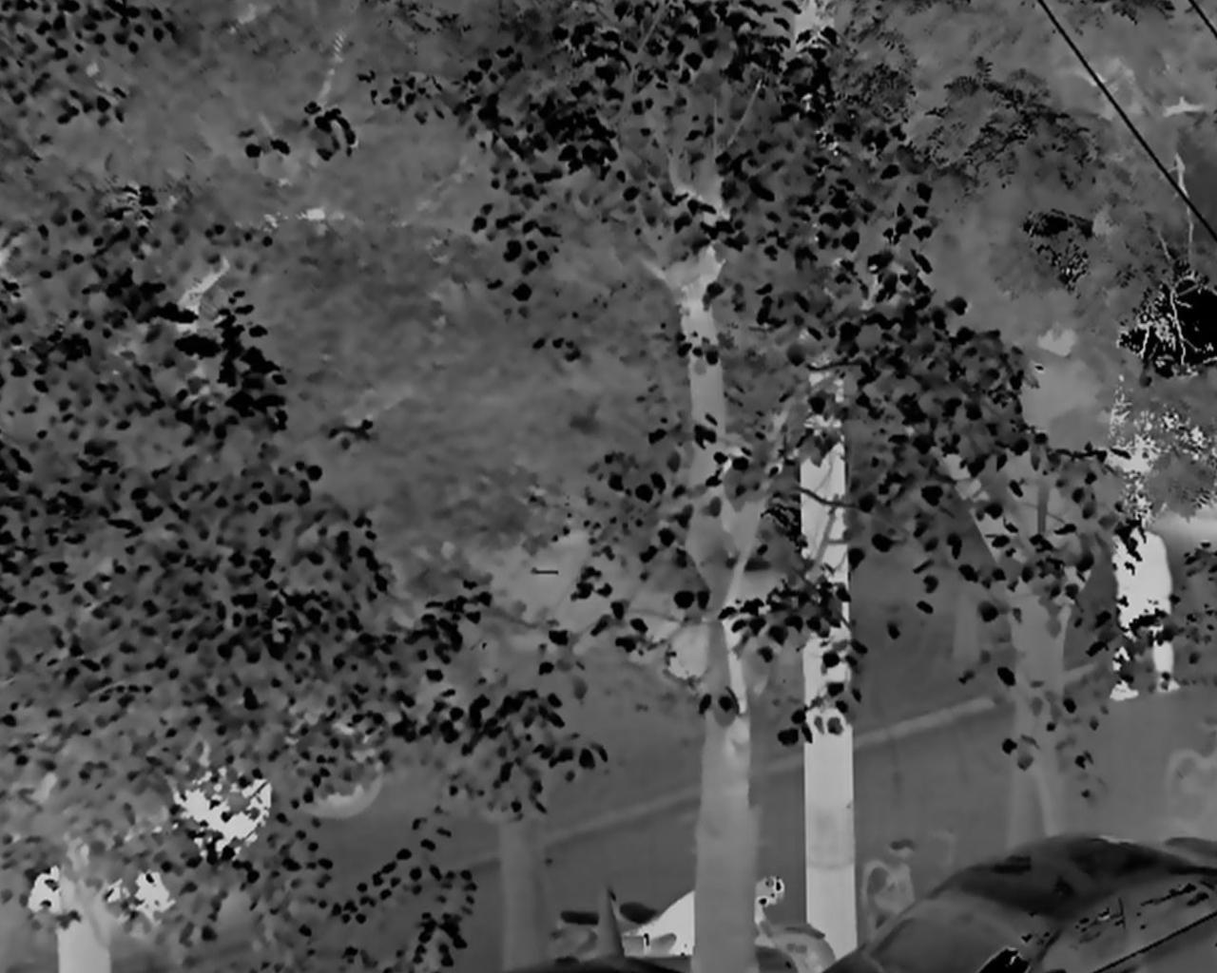person: (1109, 494, 1182, 704)
